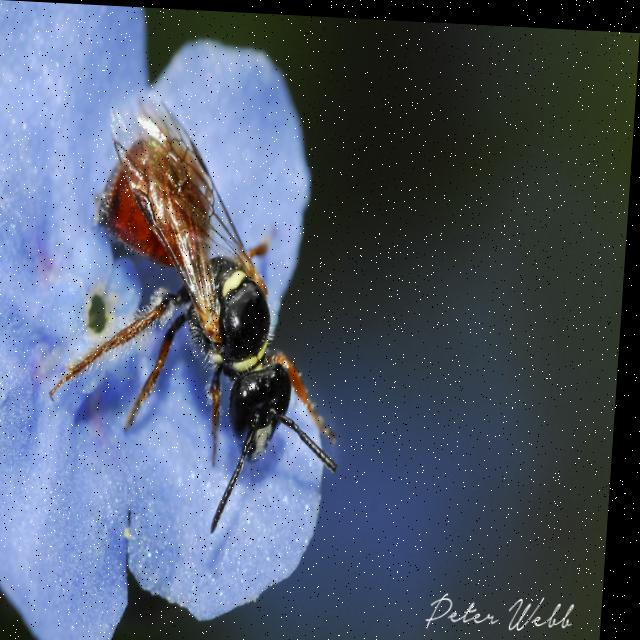Allodapula: (61, 54, 365, 573)
